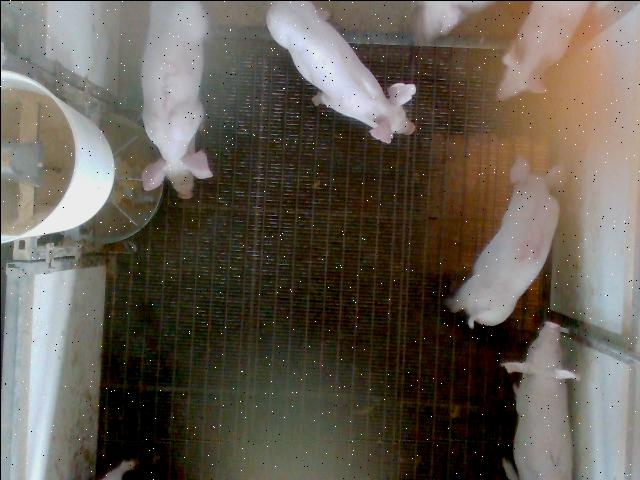pig-3: (141, 2, 211, 198)
pig-4: (448, 157, 562, 326)
